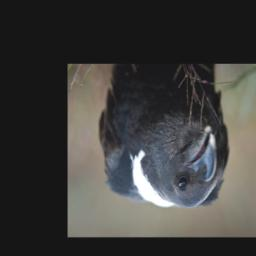Crow: (100, 68, 230, 210)
